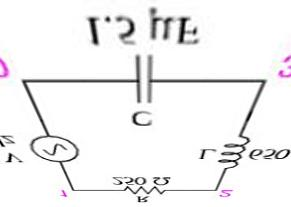inductor: (222, 122, 250, 177)
